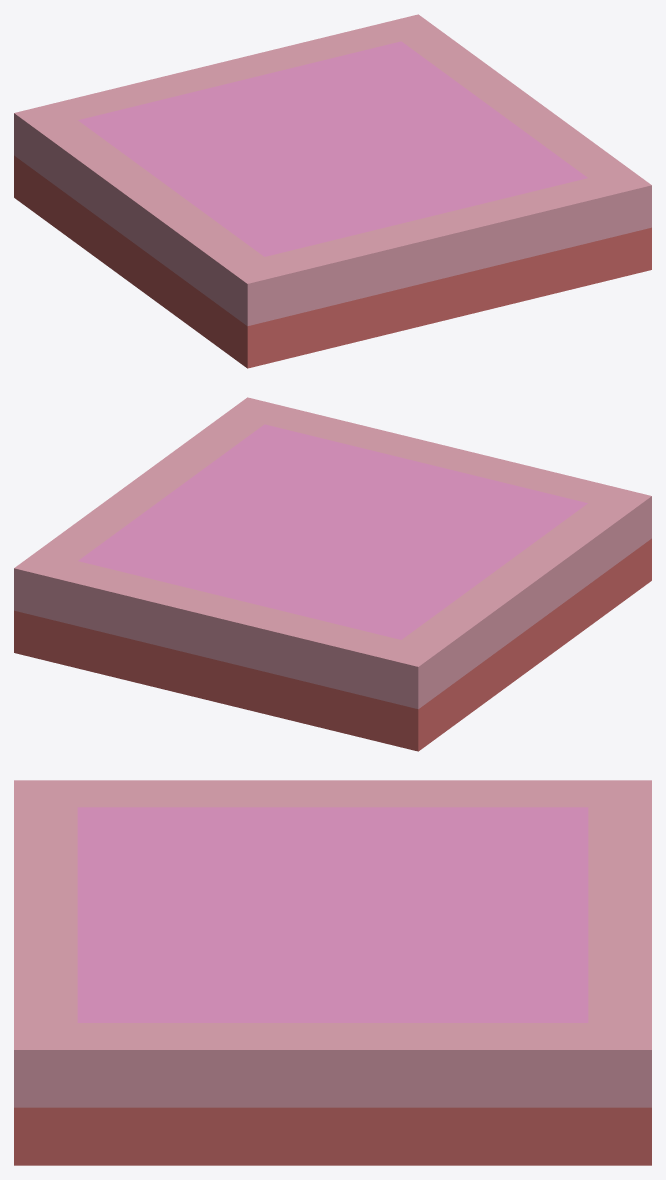
File: platform4.obj
3 views of the same model, one above another, from view 1: azimuth 30°, elevation 25°; view 2: azimuth 150°, elevation 25°; view 3: azimuth 270°, elevation 25° (orthographic). The views are drawn at different scales.
Size of the model in its own units: 10 by 2 by 10.
